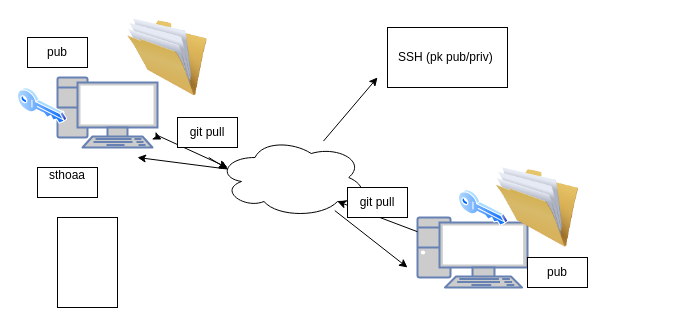
Some shapes in this 684 by 325 pixel diagram are drawn without their labels. Here are the shapes that lost their labels. From the top down, the centre of each, then its label:
At [292,177]: "git hub sthoa".
At [87,262]: "git git init git status git commit git add".
